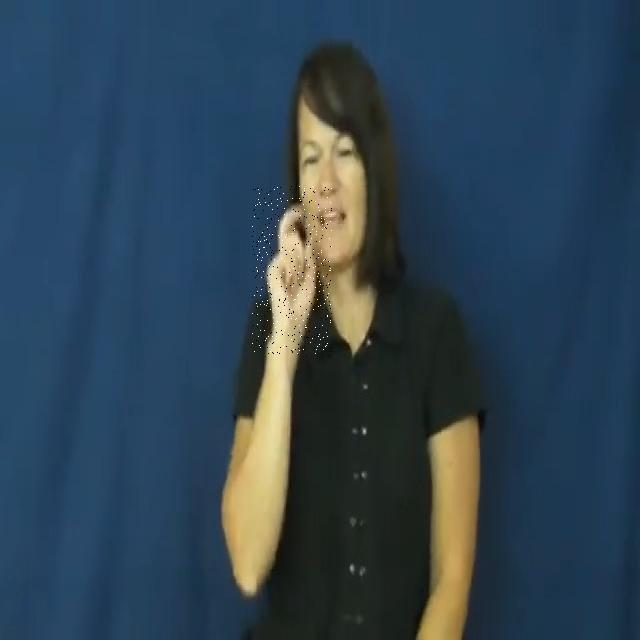hot: (252, 186, 332, 356)
